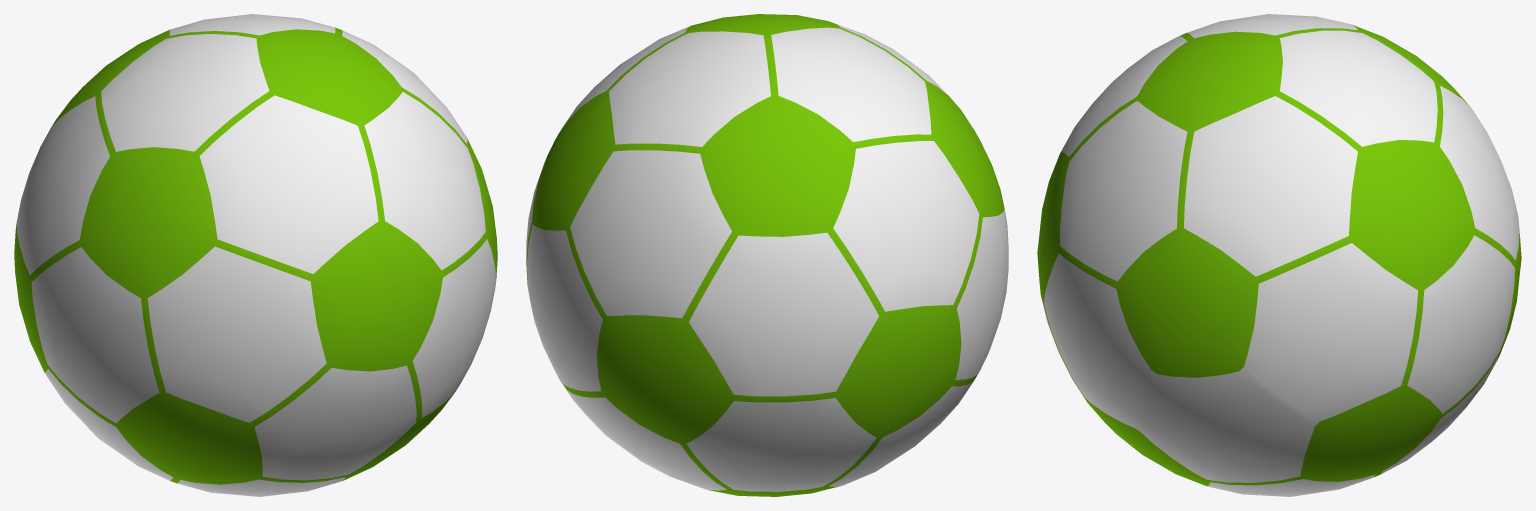
File: Soccerball_Green.fbx
The picture shows the model from 3 angles, left to right: view 1: azimuth 30°, elevation 25°; view 2: azimuth 150°, elevation 25°; view 3: azimuth 270°, elevation 25°; orthographic projection.
Parts seen in each view (by area): view 1: Soccerball_Green; view 2: Soccerball_Green; view 3: Soccerball_Green.
Boxes of the visible parts, <box> form: Soccerball_Green: <box>14,14,497,496</box>; Soccerball_Green: <box>526,14,1008,496</box>; Soccerball_Green: <box>1037,14,1521,496</box>.
Size of the model in its own units: 92.54 by 92.53 by 92.65.
